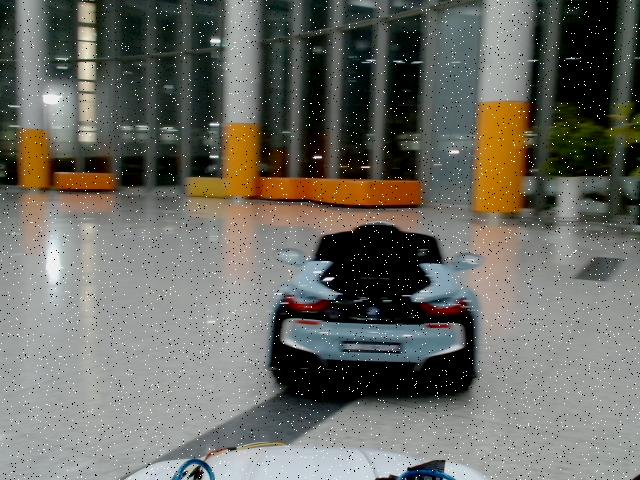car: (266, 222, 484, 393)
